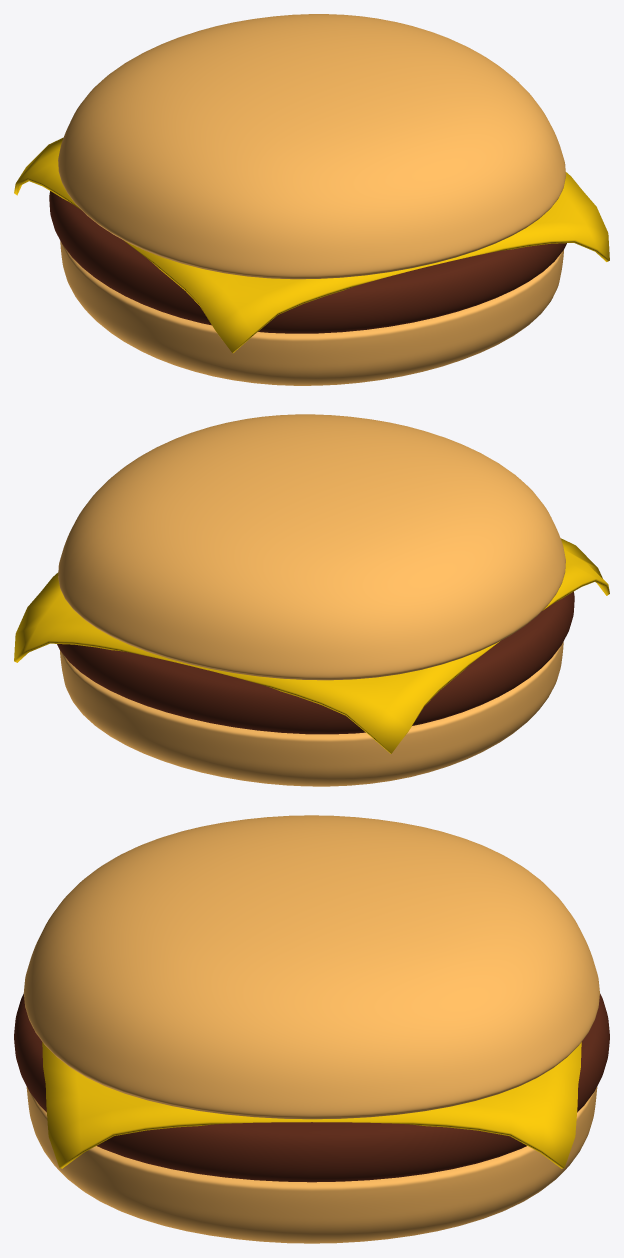
Rendered from hamburger.glb.
3 views of the same model, one above another, from view 1: azimuth 30°, elevation 25°; view 2: azimuth 150°, elevation 25°; view 3: azimuth 270°, elevation 25° (orthographic). The views are drawn at different scales.
Parts seen in each view (by area): view 1: Cube.001, Cube, Cube.002, Plane; view 2: Cube.001, Cube, Cube.002, Plane; view 3: Cube.001, Cube, Cube.002, Plane.
Boxes of the visible parts, left/top/right/bottom form: Cube.001: left=58, top=14, right=565, bottom=279; Cube: left=60, top=241, right=563, bottom=385; Cube.002: left=49, top=191, right=566, bottom=333; Plane: left=14, top=138, right=609, bottom=352; Cube.001: left=58, top=414, right=565, bottom=680; Cube: left=60, top=642, right=563, bottom=786; Cube.002: left=57, top=591, right=574, bottom=734; Plane: left=14, top=538, right=609, bottom=753; Cube.001: left=23, top=815, right=599, bottom=1119; Cube: left=26, top=1087, right=597, bottom=1243; Cube.002: left=14, top=993, right=609, bottom=1182; Plane: left=42, top=1042, right=581, bottom=1168.
Bounding box in the file's own units: 10.01 × 5.33 × 10.01.
